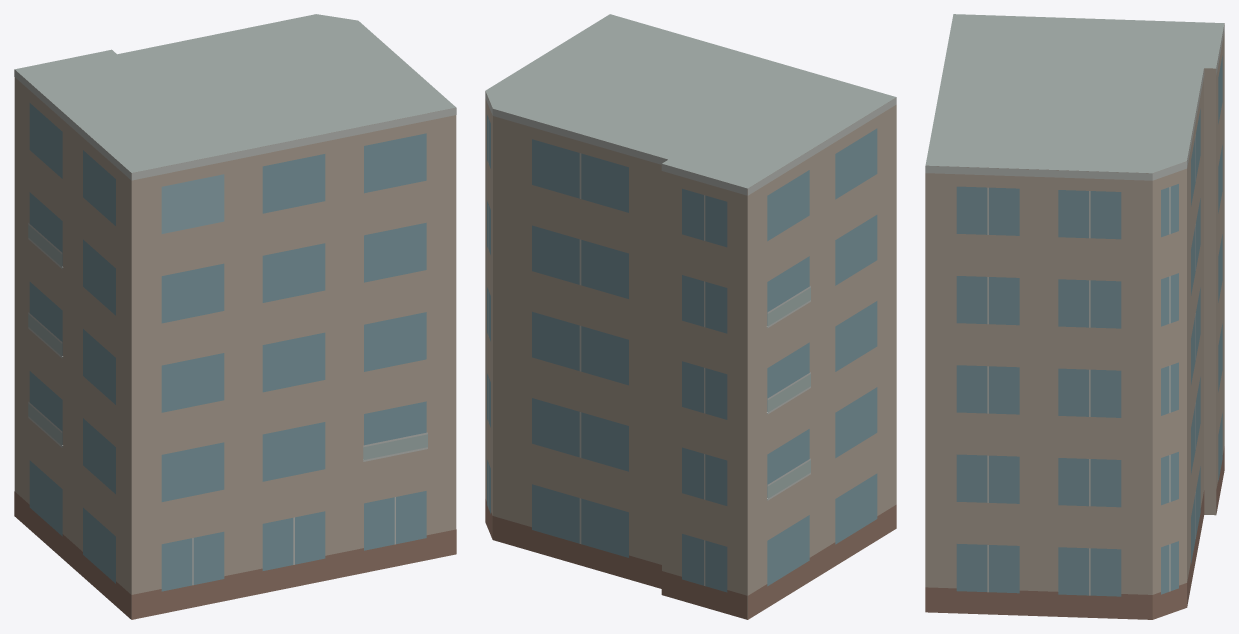
File: survey-upis-32632320.glb
3 views of the same model, side by side, from view 1: azimuth 30°, elevation 25°; view 2: azimuth 150°, elevation 25°; view 3: azimuth 270°, elevation 25° (orthographic). The views are drawn at different scales.
Parts seen in each view (by area): view 1: survey-upis-32632320.tmp; view 2: survey-upis-32632320.tmp; view 3: survey-upis-32632320.tmp.
Boxes of the visible parts, x1=… form: survey-upis-32632320.tmp: x1=14, y1=14, x2=456, y2=619; survey-upis-32632320.tmp: x1=485, y1=14, x2=896, y2=619; survey-upis-32632320.tmp: x1=925, y1=14, x2=1224, y2=619.
Bounding box in the file's own units: 11.1 × 14.5 × 8.81.
